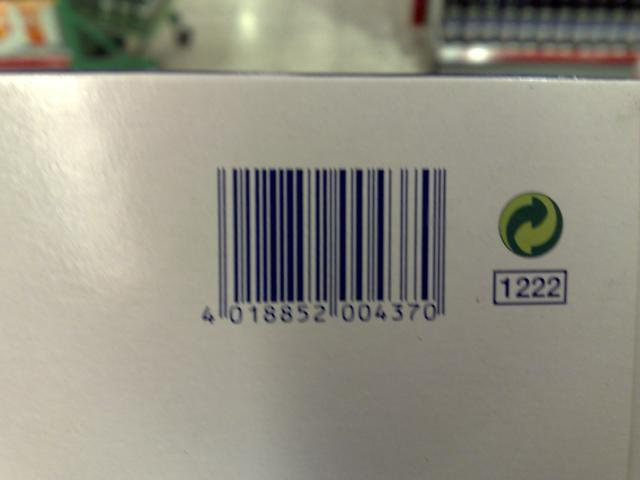Barcode: (189, 154, 464, 339)
